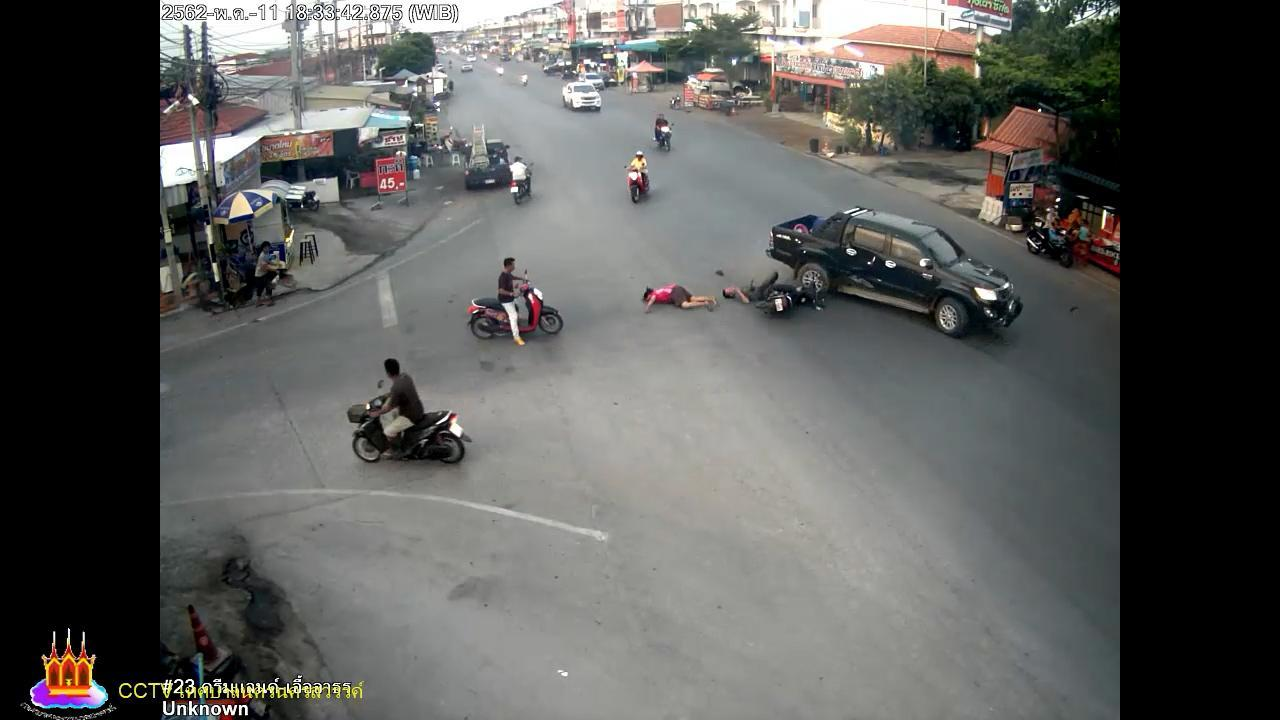accident: (640, 279, 718, 318), (721, 278, 773, 308)
